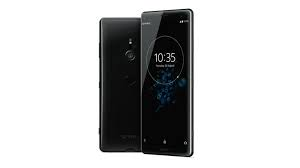sony: (94, 7, 198, 158)
